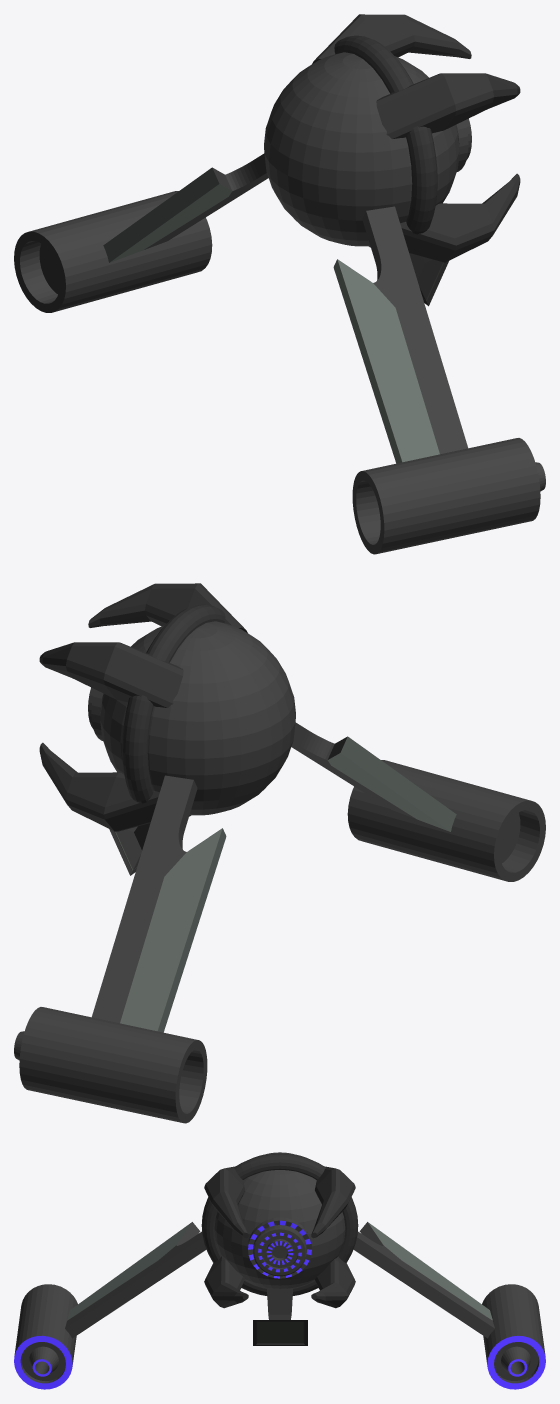
Rendered from enemy.fbx.
The picture shows the model from 3 angles, top to bottom: view 1: azimuth 30°, elevation 25°; view 2: azimuth 150°, elevation 25°; view 3: azimuth 270°, elevation 25°; orthographic projection. The views are drawn at different scales.
Visible parts, largest first — view 1: screen; view 2: screen; view 3: screen.
Part boxes in pixels (<box>): screen: <box>14,14,545,554</box>; screen: <box>14,583,545,1123</box>; screen: <box>14,1152,545,1389</box>.
Size of the model in its own units: 347 by 388 by 775.
